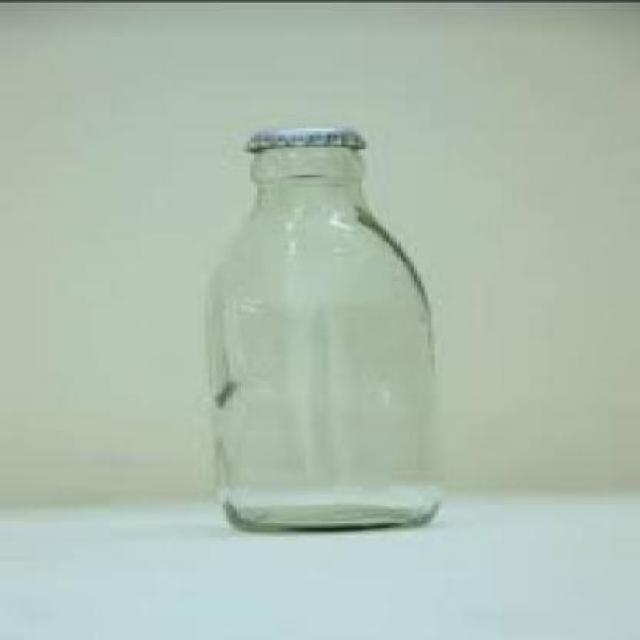kaca: (207, 148, 436, 528)
